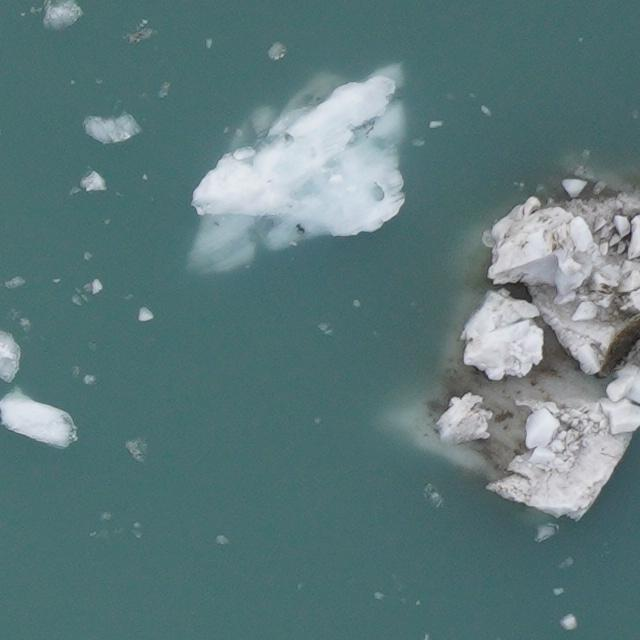seal: (588, 310, 640, 384)
